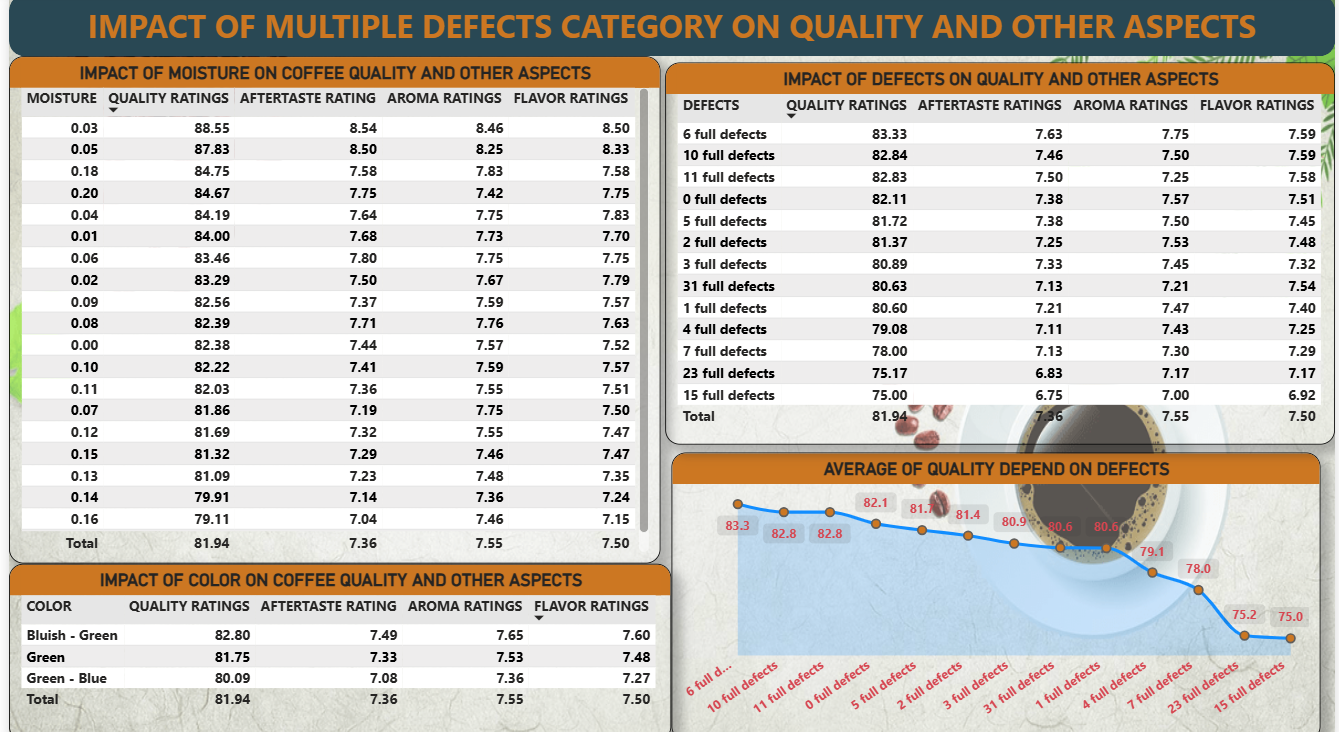

The page's visual inventory and layout, read from the dashboard file:
{"tool":"powerbi","page":{"name":"Page 3","canvas":[1280,720],"ordinal":2},"visuals":[{"type":"tableEx","title":"IMPACT OF MOISTURE ON COFFEE QUALITY AND OTHER ASPECTS","fields":{"Values":["arabica_ratings_raw.Moisture","Avg(arabica_ratings_raw.quality_score)","Avg(arabica_ratings_raw.Aftertaste)","Avg(arabica_ratings_raw.Aroma)","Avg(arabica_ratings_raw.Flavor)"]},"box":[0,59.1,628.6,489.8],"z":0},{"type":"actionButton","box":[0,0,100,40],"z":1000},{"type":"lineChart","title":"AVERAGE  OF QUALITY DEPEND ON DEFECTS","fields":{"Category":["arabica_ratings_raw.Category One Defects"],"Y":["Avg(arabica_ratings_raw.quality_score)"]},"box":[639.4,441.6,626.1,278.7],"z":2000},{"type":"tableEx","title":"IMPACT OF DEFECTS ON QUALITY AND OTHER ASPECTS","fields":{"Values":["arabica_ratings_raw.Category One Defects","Avg(arabica_ratings_raw.quality_score)","Avg(arabica_ratings_raw.Aftertaste)","Avg(arabica_ratings_raw.Aroma)","Avg(arabica_ratings_raw.Flavor)"]},"box":[633.3,65.1,646.7,369.2],"z":3000},{"type":"tableEx","title":"IMPACT OF COLOR ON COFFEE QUALITY AND OTHER ASPECTS","fields":{"Values":["arabica_ratings_raw.Color","Avg(arabica_ratings_raw.quality_score)","Avg(arabica_ratings_raw.Aftertaste)","Avg(arabica_ratings_raw.Aroma)","Avg(arabica_ratings_raw.Flavor)"]},"box":[0,548.9,639.4,171.3],"z":4000},{"type":"shape","box":[0,0,1280,59.1],"z":5000}]}

Visuals, with their boxes in screenshot pixels (x1, y1, x2, y2), scaled from the page's 1280x720 canvas onto the 1339x732 screenshot:
"IMPACT OF MOISTURE ON COFFEE QUALITY AND OTHER ASPECTS" tableEx: 0/60/658/558
actionButton: 0/0/105/41
"AVERAGE  OF QUALITY DEPEND ON DEFECTS" lineChart: 669/449/1324/731
"IMPACT OF DEFECTS ON QUALITY AND OTHER ASPECTS" tableEx: 662/66/1338/442
"IMPACT OF COLOR ON COFFEE QUALITY AND OTHER ASPECTS" tableEx: 0/558/669/731
shape: 0/0/1338/60
